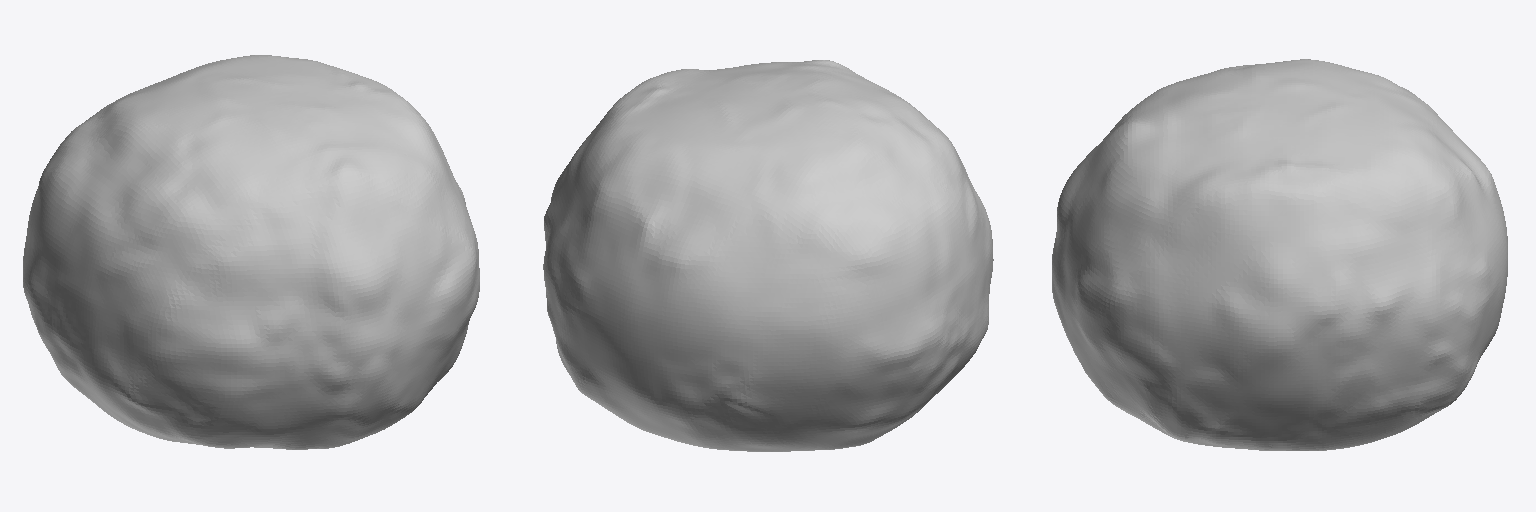
The model's file is Snowman_Middle.OBJ.
3 renders of one model, left to right at view 1: azimuth 30°, elevation 25°; view 2: azimuth 150°, elevation 25°; view 3: azimuth 270°, elevation 25°, orthographic.
Visible parts, largest first — view 1: Group18273; view 2: Group18273; view 3: Group18273.
Boxes of the visible parts, x1=… form: Group18273: x1=23, y1=55, x2=479, y2=449; Group18273: x1=543, y1=60, x2=993, y2=451; Group18273: x1=1052, y1=59, x2=1507, y2=450.
Size of the model in its own units: 1.59 by 1.23 by 1.61.